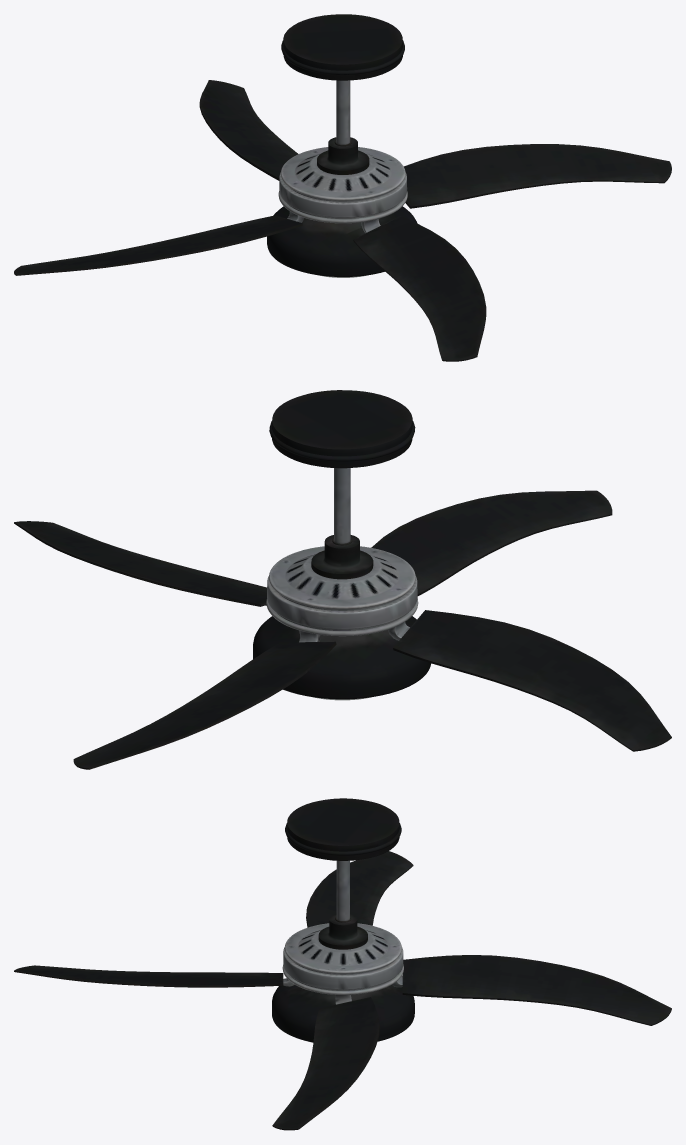
File: ceiling-fan.02a12cfa39.glb
3 views of the same model, one above another, from view 1: azimuth 30°, elevation 25°; view 2: azimuth 150°, elevation 25°; view 3: azimuth 270°, elevation 25° (orthographic). The views are drawn at different scales.
Visible parts, largest first — view 1: ceiling_fan; view 2: ceiling_fan; view 3: ceiling_fan.
Boxes of the visible parts, bbox=[...] form: ceiling_fan: bbox=[14, 14, 671, 361]; ceiling_fan: bbox=[14, 390, 671, 769]; ceiling_fan: bbox=[14, 798, 671, 1130].
Bounding box in the file's own units: 1.46 × 0.5163 × 1.46.
Materials: 1 (1 with a texture image).
